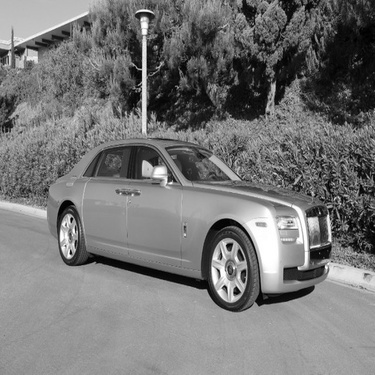car: (32, 115, 338, 320)
